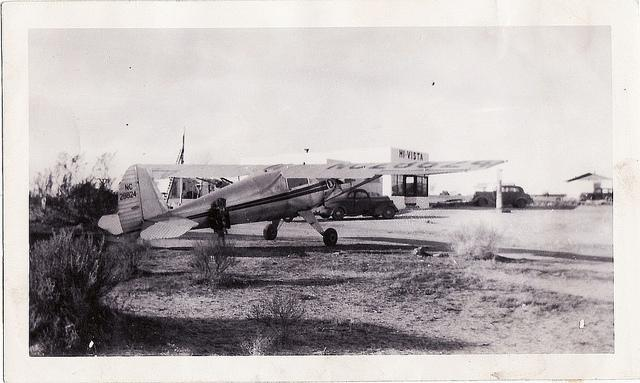car: (313, 189, 400, 219), (472, 186, 532, 208), (580, 188, 613, 203)
truck: (314, 190, 397, 221)
